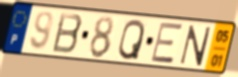8: (87, 15, 117, 60)
9: (28, 11, 55, 52)
B: (50, 11, 85, 55)
E: (149, 22, 185, 65)
N: (178, 24, 213, 68)
Q: (116, 18, 147, 62)
